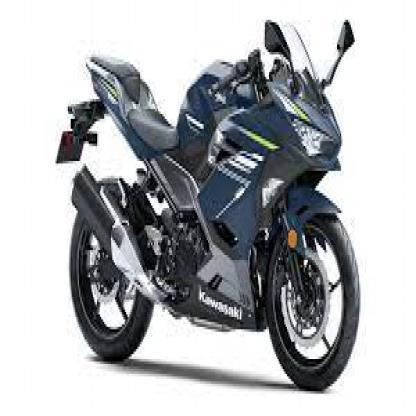Motorcycle: (49, 8, 363, 394)
